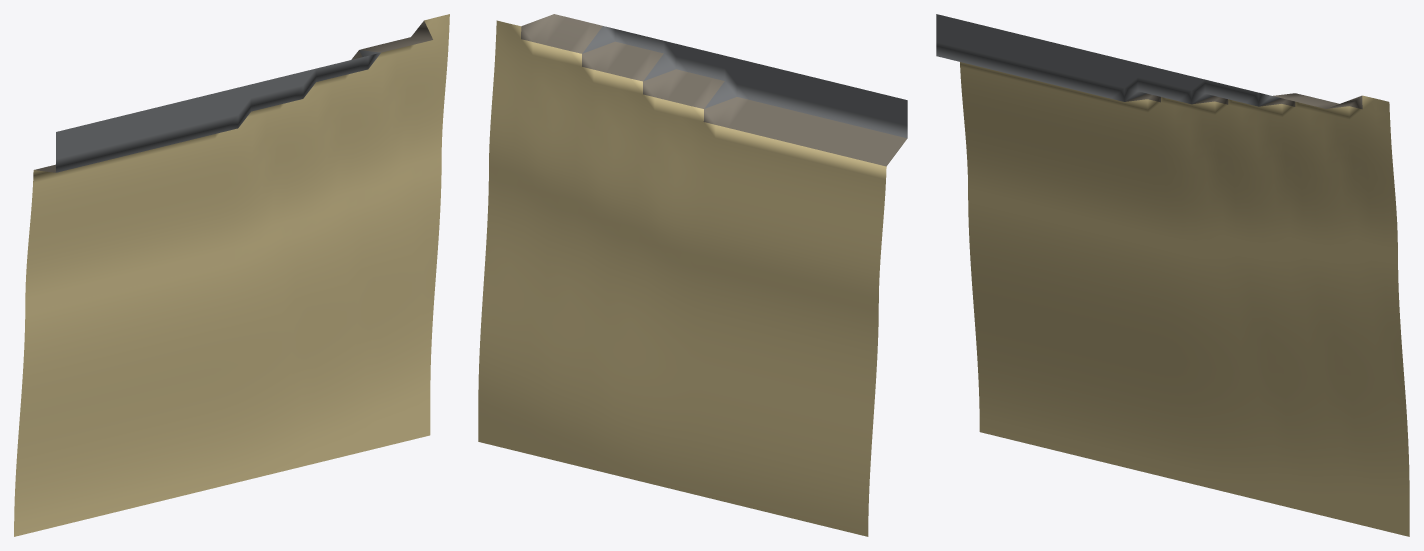
Rendered from island_terrain_15_03.obj.
3 views of the same model, side by side, from view 1: azimuth 30°, elevation 25°; view 2: azimuth 150°, elevation 25°; view 3: azimuth 330°, elevation 25° (orthographic). The views are drawn at different scales.
Parts seen in each view (by area): view 1: island_terrain_15_03; view 2: island_terrain_15_03; view 3: island_terrain_15_03.
Boxes of the visible parts, x1=… form: island_terrain_15_03: x1=14, y1=14, x2=449, y2=536; island_terrain_15_03: x1=478, y1=14, x2=907, y2=536; island_terrain_15_03: x1=936, y1=14, x2=1409, y2=536.
Bounding box in the file's own units: 256 × 256 × 44.7.
